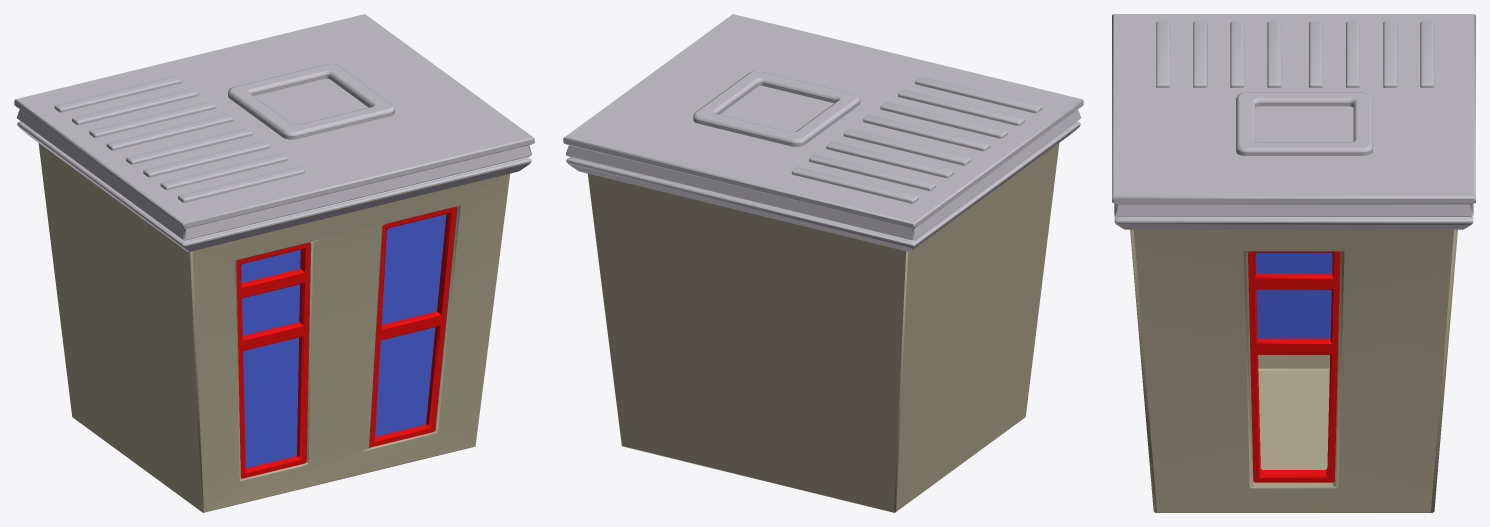
The model's file is floor1_1.fbx.
3 views of the same model, side by side, from view 1: azimuth 30°, elevation 25°; view 2: azimuth 150°, elevation 25°; view 3: azimuth 270°, elevation 25° (orthographic). The views are drawn at different scales.
Parts seen in each view (by area): view 1: floor_1_1; view 2: floor_1_1; view 3: floor_1_1.
Part boxes in pixels (<box>): floor_1_1: <box>14,14,534,512</box>; floor_1_1: <box>563,14,1083,512</box>; floor_1_1: <box>1112,14,1475,512</box>.
Bounding box in the file's own units: 96.35 × 83.83 × 80.51.
